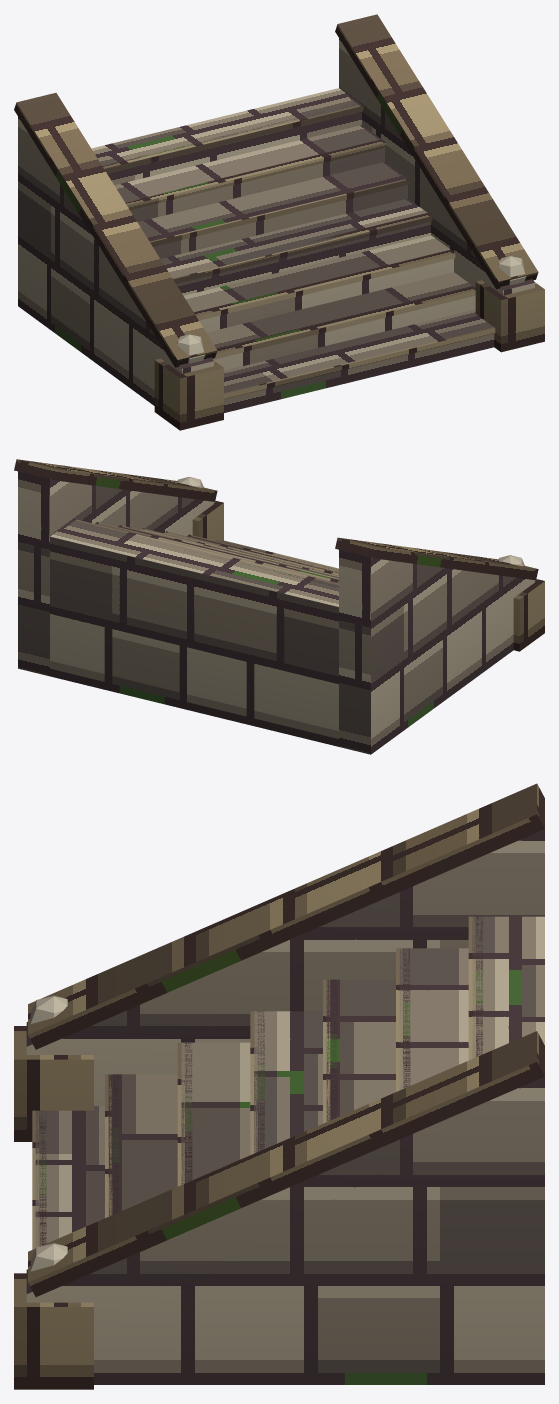
File: scene_stair_warden.glb
3 renders of one model, top to bottom at view 1: azimuth 30°, elevation 25°; view 2: azimuth 150°, elevation 25°; view 3: azimuth 270°, elevation 25°, orthographic. The views are drawn at different scales.
Visible parts, largest first — view 1: scene_stair_warden; view 2: scene_stair_warden; view 3: scene_stair_warden.
Part boxes in pixels (left/top/right/bottom): scene_stair_warden: left=14, top=14, right=544, bottom=430; scene_stair_warden: left=14, top=459, right=544, bottom=754; scene_stair_warden: left=14, top=783, right=544, bottom=1389.
Bounding box in the file's own units: 3.66 × 1.98 × 2.92.
Materials: 2 (1 with a texture image).
